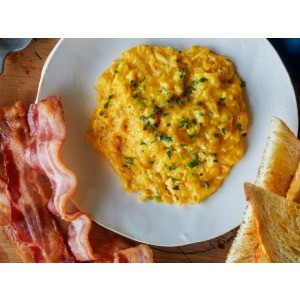egg_brain food: (96, 53, 248, 171)
